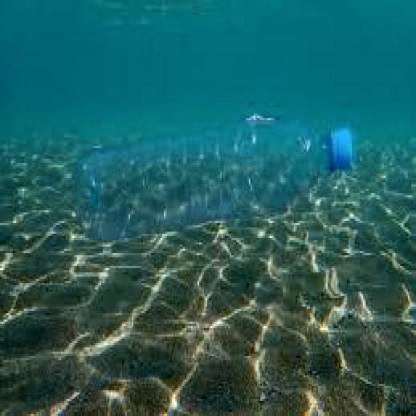pbottle: (64, 114, 357, 244)
